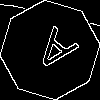A: (25, 25, 80, 82)
